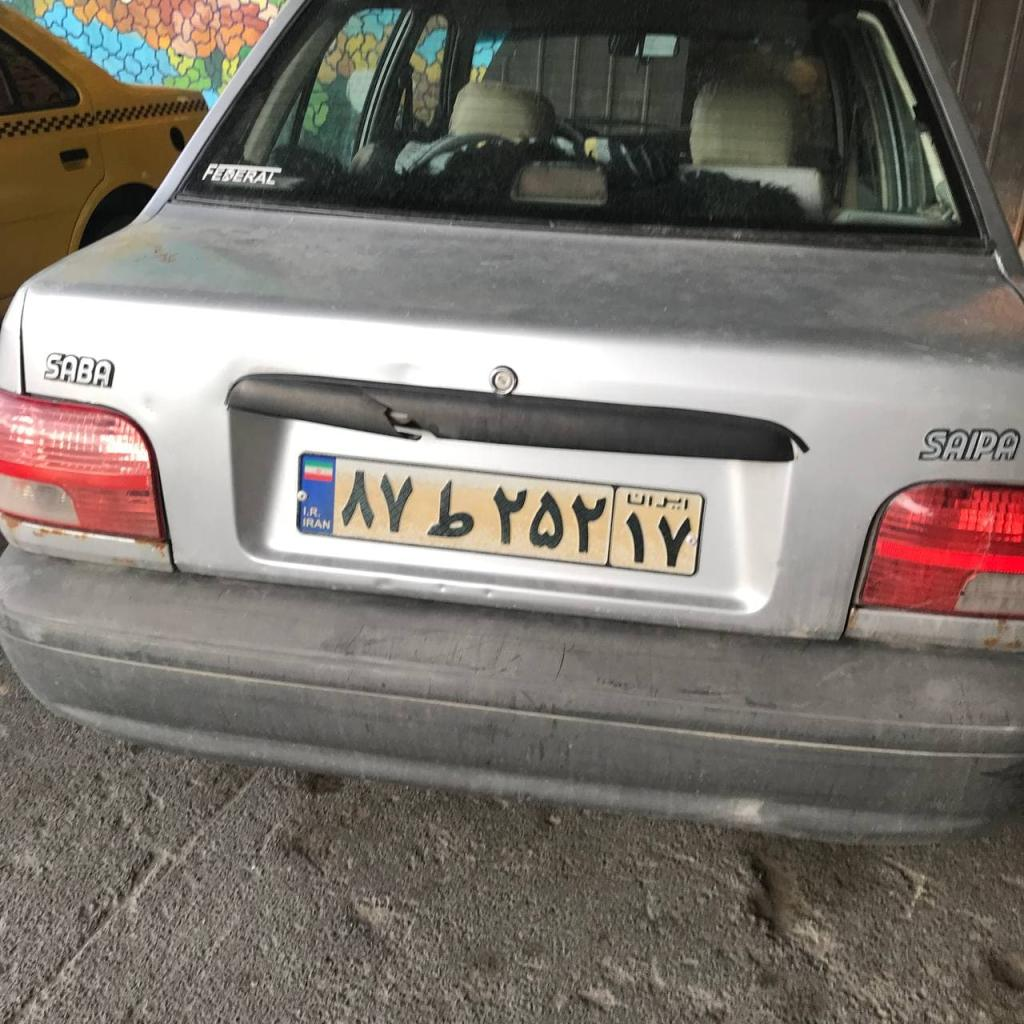Plates: (298, 454, 703, 574)
